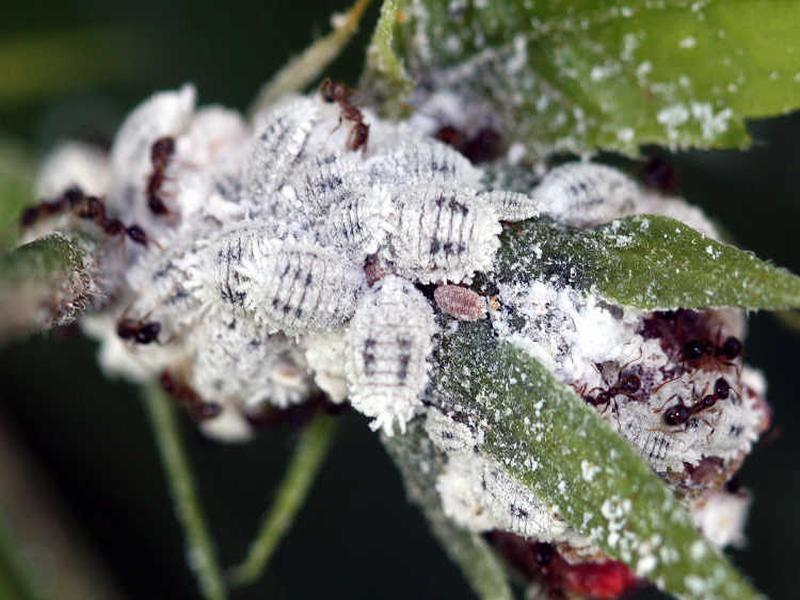Mealy_bug: (143, 81, 787, 561)
